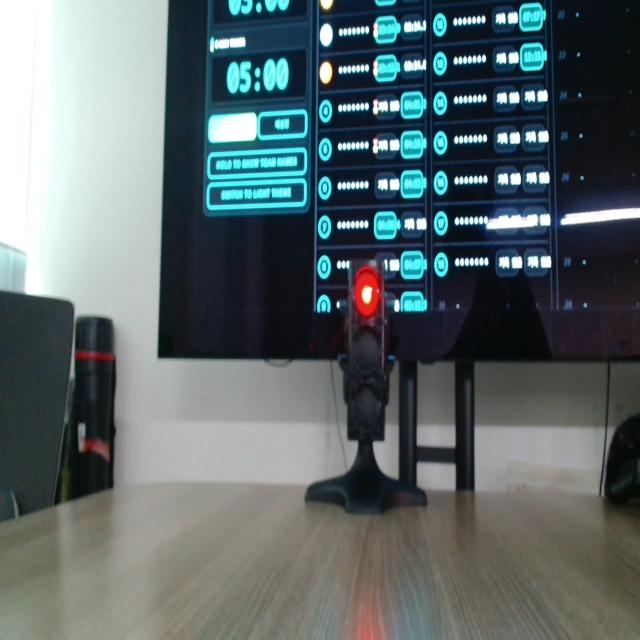red_light: (354, 267, 379, 317)
